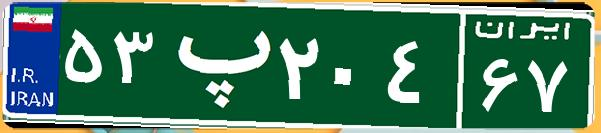0: (330, 28, 385, 110)
2: (273, 28, 330, 110)
3: (110, 28, 158, 105)
4: (385, 28, 445, 110)
5: (57, 26, 110, 107)
6: (475, 38, 525, 113)
7: (525, 38, 570, 115)
پ: (158, 15, 273, 115)
